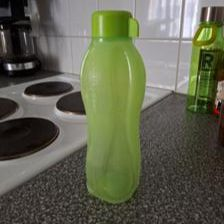bottle: (79, 7, 147, 203)
